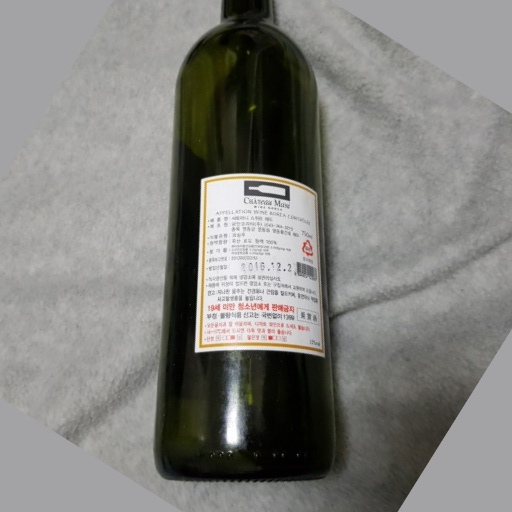Glass_2: (145, 1, 340, 480)
